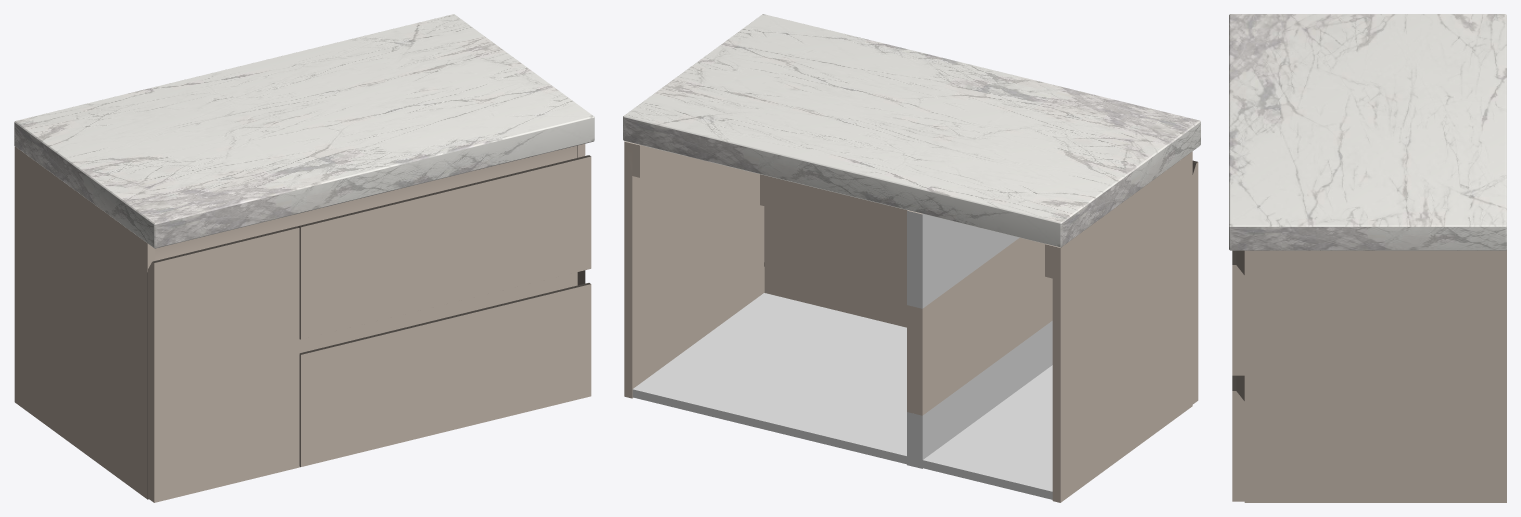
3 renders of one model, left to right at view 1: azimuth 30°, elevation 25°; view 2: azimuth 150°, elevation 25°; view 3: azimuth 270°, elevation 25°, orthographic.
Visible parts, largest first — view 1: VX06; view 2: VX06; view 3: VX06.
Part boxes in pixels (x1=…): VX06: x1=14, y1=14, x2=594, y2=502; VX06: x1=623, y1=14, x2=1200, y2=502; VX06: x1=1229, y1=14, x2=1506, y2=502.
Size of the model in its own units: 0.904 by 0.552 by 0.5.
Materials: 4 (1 with a texture image).
